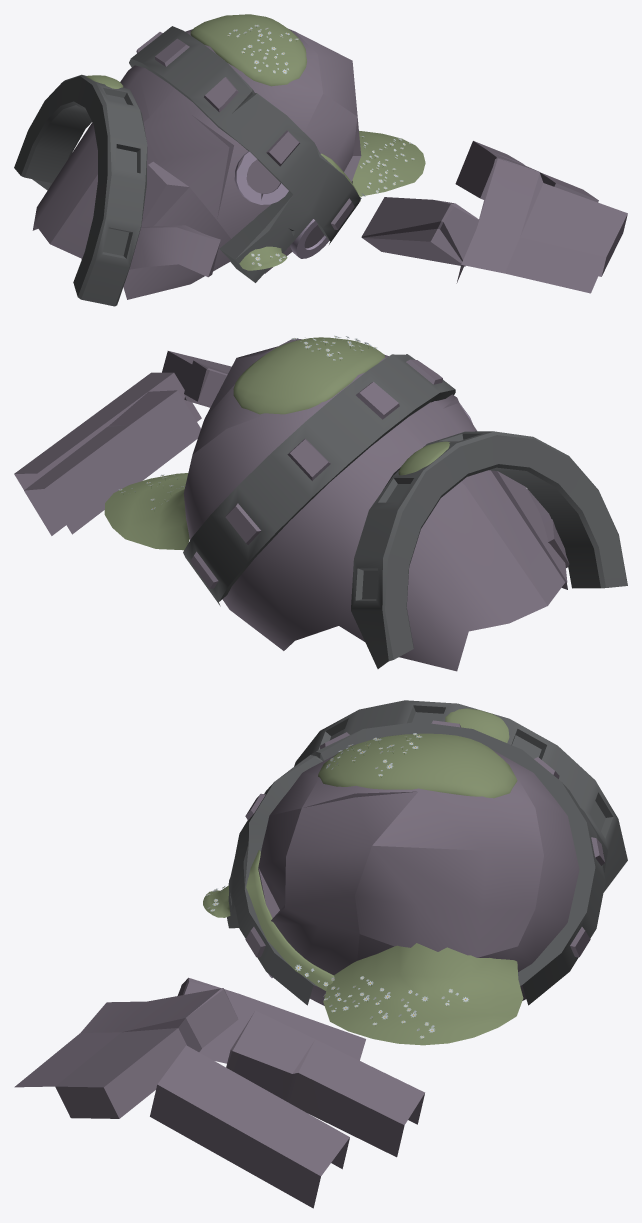
Rendered from P_stoneGiant_01.fbx.
The picture shows the model from 3 angles, top to bottom: view 1: azimuth 30°, elevation 25°; view 2: azimuth 150°, elevation 25°; view 3: azimuth 270°, elevation 25°; orthographic projection. The views are drawn at different scales.
Parts seen in each view (by area): view 1: lod1; view 2: lod1; view 3: lod1.
Boxes of the visible parts, x1,y1,x2,y2 form: lod1: (14,14,627,306); lod1: (14,335,627,671); lod1: (14,700,627,1208).
Size of what is drawn, in the model's own units: 32.35 by 14.59 by 27.08.
Materials: 2 (2 with a texture image).
